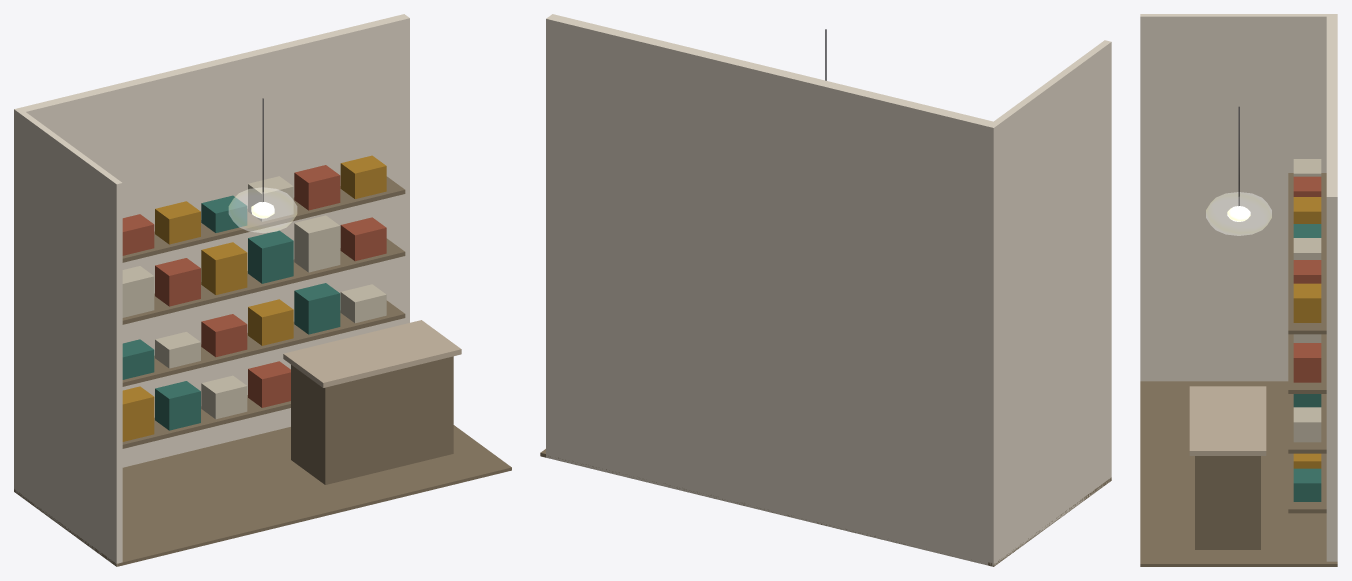
File: city_shop_display.glb
The picture shows the model from 3 angles, left to right: view 1: azimuth 30°, elevation 25°; view 2: azimuth 150°, elevation 25°; view 3: azimuth 270°, elevation 25°; orthographic projection. The views are drawn at different scales.
Visible parts, largest first — view 1: CityShopDisplay_Back, CityShopDisplay_Side, CityShopDisplay_Floor, CityShopDisplay_Counter, CityShopDisplay_CounterTop, CityShopDisplay_Shelf1, CityShopDisplay_Shelf2, CityShopDisplay_Shelf3, CityShopDisplay_Pendant_Halo, CityShopDisplay_Good2_5, CityShopDisplay_Good2_3, CityShopDisplay_Good2_4 (+20 smaller); view 2: CityShopDisplay_Back, CityShopDisplay_Side; view 3: CityShopDisplay_Side, CityShopDisplay_Floor, CityShopDisplay_Back, CityShopDisplay_Counter, CityShopDisplay_CounterTop, CityShopDisplay_Pendant_Halo, CityShopDisplay_Shelf3, CityShopDisplay_Good2_6, CityShopDisplay_Good3_6, CityShopDisplay_Shelf0, CityShopDisplay_Shelf1, CityShopDisplay_Shelf2 (+11 smaller).
Part boxes in pixels (<box>): CityShopDisplay_Back: <box>19,14,409,467</box>; CityShopDisplay_Side: <box>14,108,122,566</box>; CityShopDisplay_Floor: <box>14,425,511,566</box>; CityShopDisplay_Counter: <box>291,356,453,484</box>; CityShopDisplay_CounterTop: <box>283,320,461,387</box>; CityShopDisplay_Shelf1: <box>122,300,405,386</box>; CityShopDisplay_Shelf2: <box>122,238,405,324</box>; CityShopDisplay_Shelf3: <box>122,176,405,262</box>; CityShopDisplay_Pendant_Halo: <box>229,187,296,232</box>; CityShopDisplay_Good2_5: <box>294,215,340,272</box>; CityShopDisplay_Good2_3: <box>201,242,247,294</box>; CityShopDisplay_Good2_4: <box>248,230,293,283</box>; CityShopDisplay_Back: <box>546,14,993,565</box>; CityShopDisplay_Side: <box>988,40,1111,566</box>; CityShopDisplay_Side: <box>1140,14,1337,381</box>; CityShopDisplay_Floor: <box>1140,381,1337,566</box>; CityShopDisplay_Back: <box>1326,16,1337,561</box>; CityShopDisplay_Counter: <box>1195,456,1260,549</box>; CityShopDisplay_CounterTop: <box>1189,386,1266,455</box>; CityShopDisplay_Pendant_Halo: <box>1206,192,1271,235</box>; CityShopDisplay_Shelf3: <box>1288,173,1326,334</box>; CityShopDisplay_Good2_6: <box>1293,343,1321,382</box>; CityShopDisplay_Good3_6: <box>1293,283,1321,322</box>; CityShopDisplay_Shelf0: <box>1288,453,1326,513</box>; CityShopDisplay_Shelf1: <box>1288,394,1326,453</box>; CityShopDisplay_Shelf2: <box>1288,334,1326,393</box>.
Size of the model in its own units: 4 by 3.7 by 1.8.
